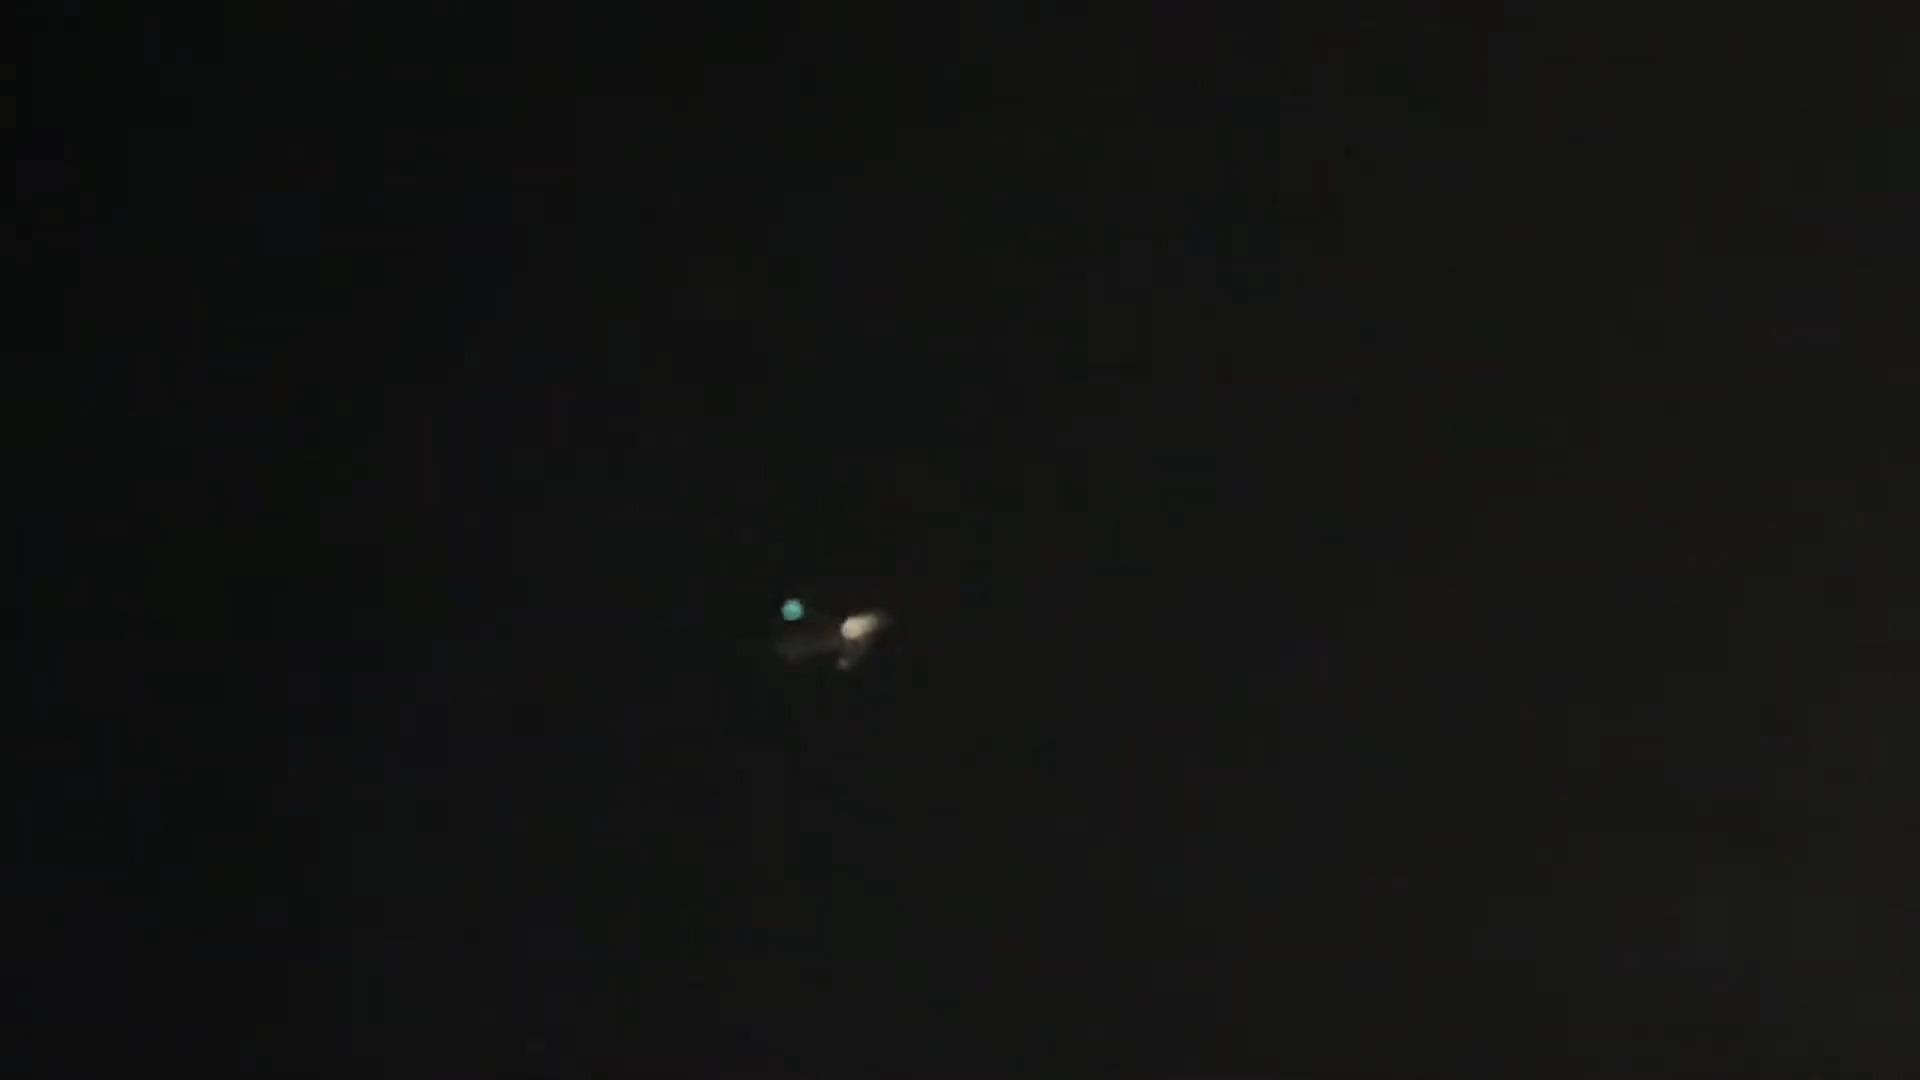Plane: (716, 574, 927, 721)
